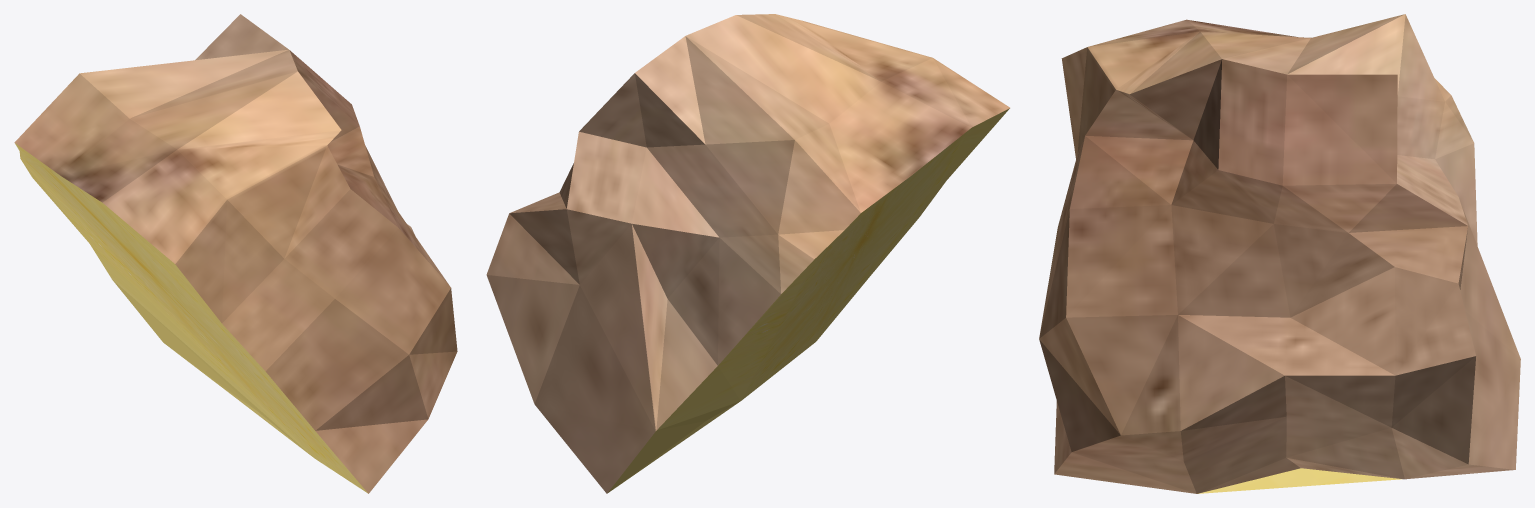
The model's file is jagaimo.obj.
3 views of the same model, side by side, from view 1: azimuth 30°, elevation 25°; view 2: azimuth 150°, elevation 25°; view 3: azimuth 270°, elevation 25° (orthographic). The views are drawn at different scales.
Parts seen in each view (by area): view 1: Cube; view 2: Cube; view 3: Cube.
Boxes of the visible parts, x1,y1,x2,y2 form: Cube: (14, 14, 457, 493); Cube: (486, 14, 1009, 493); Cube: (1039, 14, 1520, 493).
Size of the model in its own units: 2.09 by 2.16 by 2.18.
2 materials, 2 textured.
